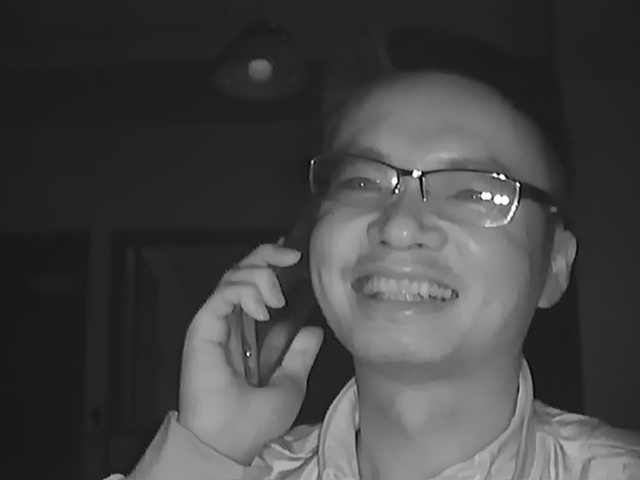hand: (174, 237, 327, 450)
